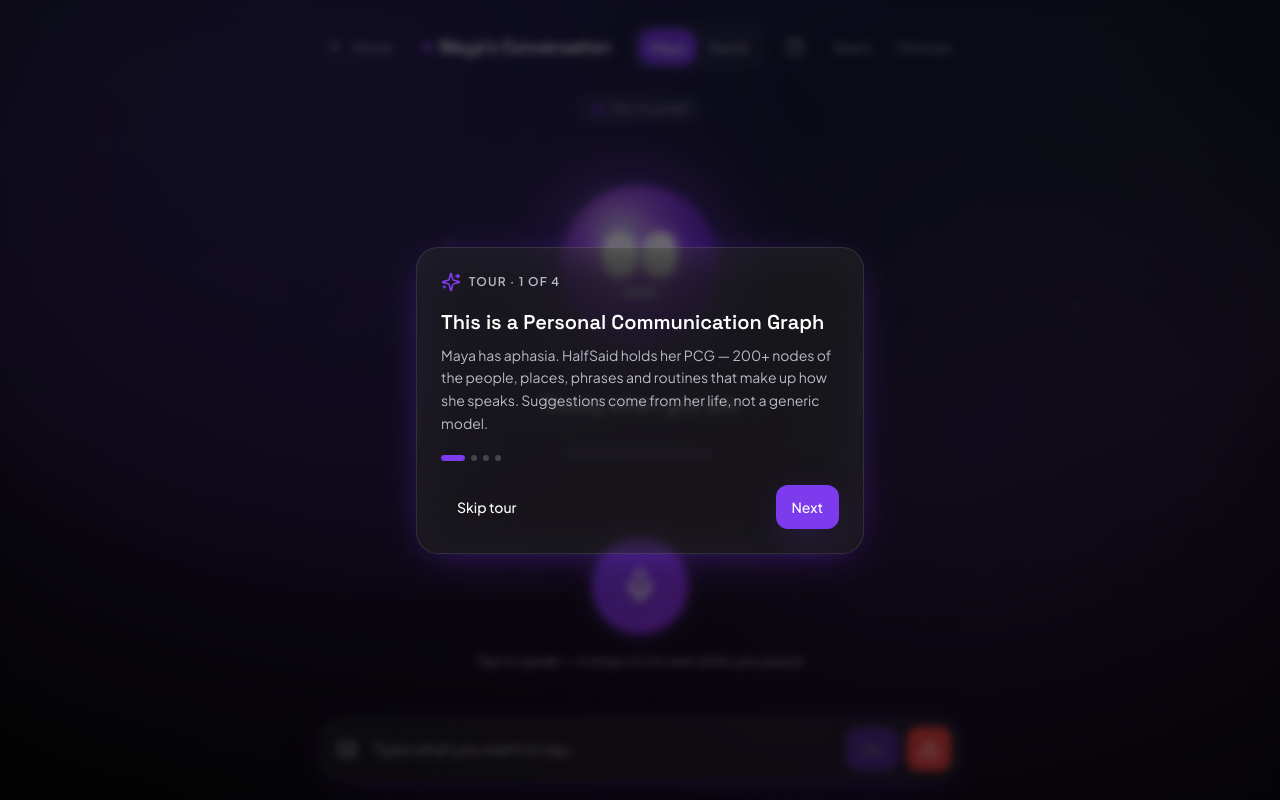
ConversationCanvas › shows an accessible first-visit walkthrough that frames the PCG
This screenshot has width=1280, height=800.
Click the button "Skip tour" at (487, 506), box [441,484,532,528]
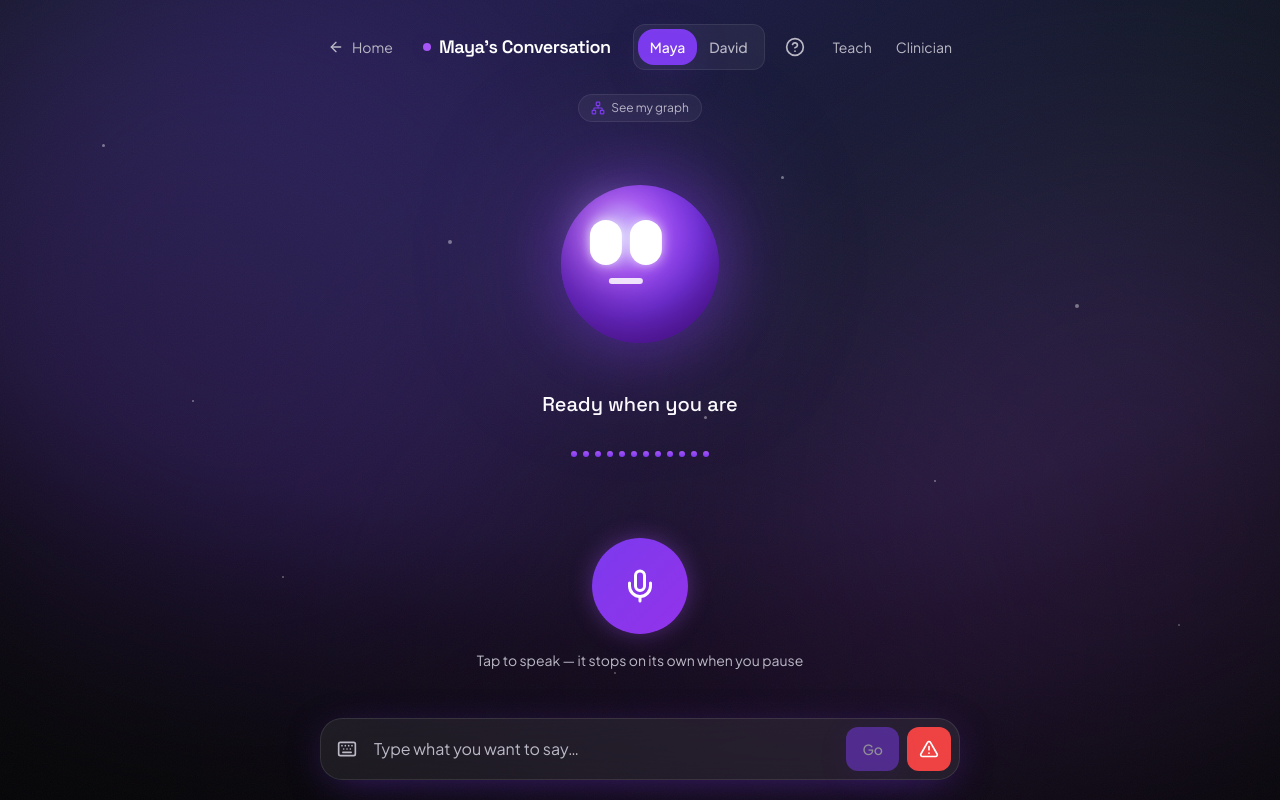
Check: the dialog is gone
